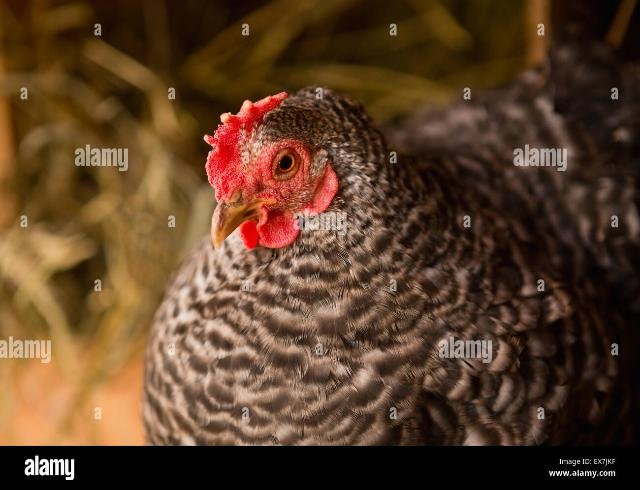Chicken: (142, 84, 640, 445)
